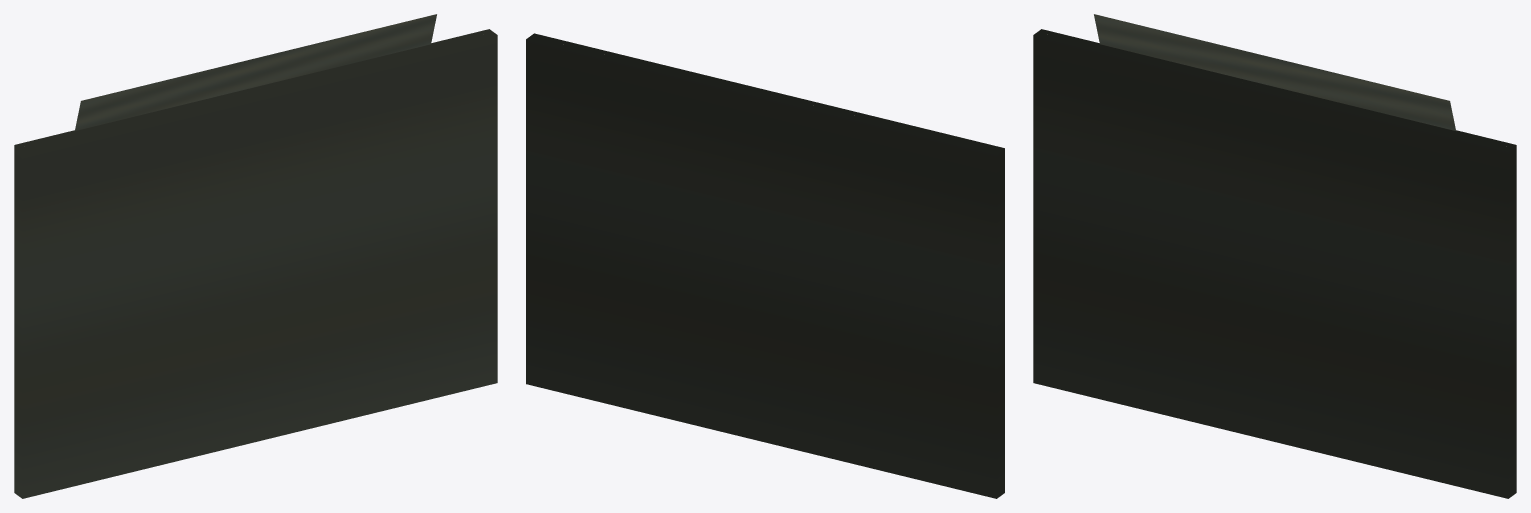
The model's file is env_fence_chainlink_4m.glb.
The picture shows the model from 3 angles, left to right: view 1: azimuth 30°, elevation 25°; view 2: azimuth 150°, elevation 25°; view 3: azimuth 330°, elevation 25°; orthographic projection.
Parts seen in each view (by area): view 1: env_fence_chainlink_4m; view 2: env_fence_chainlink_4m; view 3: env_fence_chainlink_4m.
Boxes of the visible parts, box(x1,y1,x2,y2) form: env_fence_chainlink_4m: box(14, 14, 497, 498); env_fence_chainlink_4m: box(526, 33, 1004, 498); env_fence_chainlink_4m: box(1033, 14, 1516, 498).
Bounding box in the file's own units: 4 × 3.08 × 0.12.
Materials: 1 (1 with a texture image).
